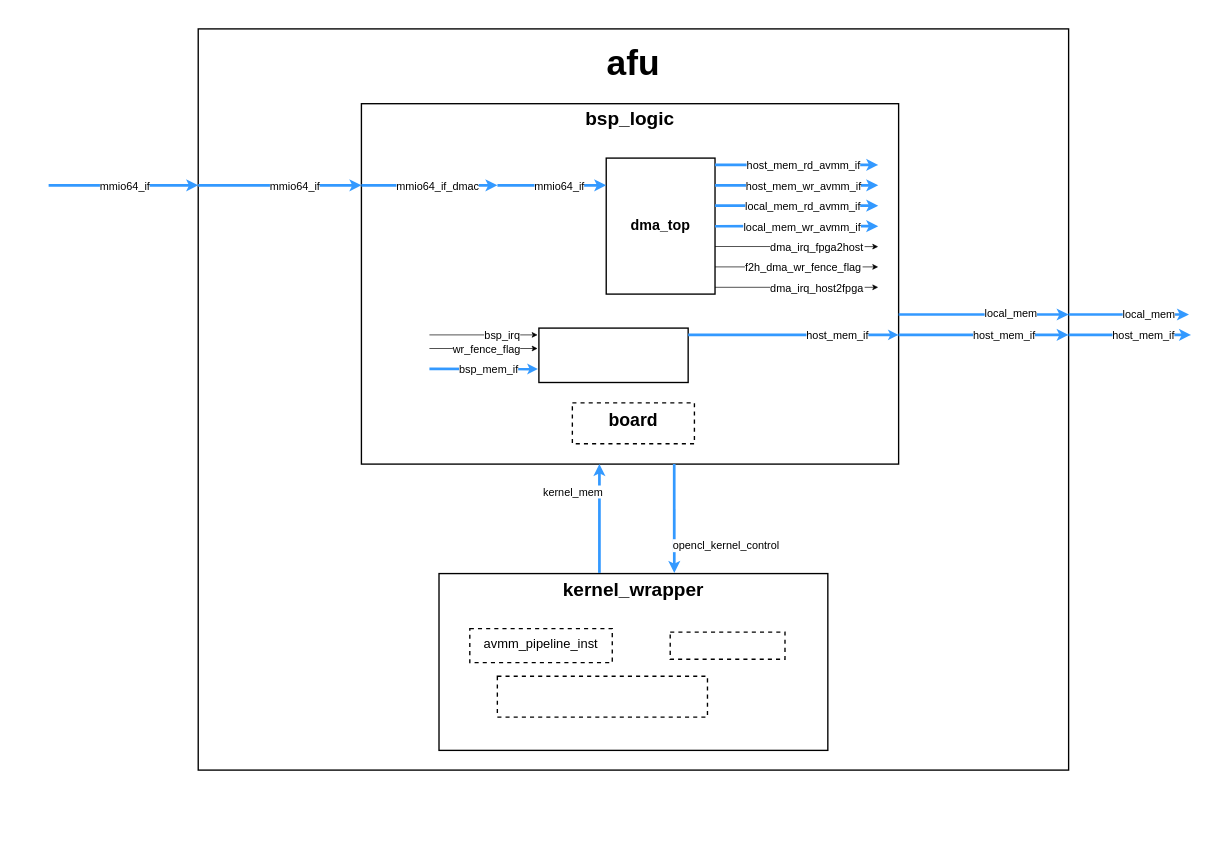
Some shapes in this 1227 by 846 pixel diagram are drawn without their labels. Each missing label, with the centre of its shape:
"bsp_host_mem_if_mux" belongs at (x=613, y=355).
"kernel_cra_avalon_mm_bridge_s10" belongs at (x=602, y=696).
"kernel_system" belongs at (x=727, y=645).
